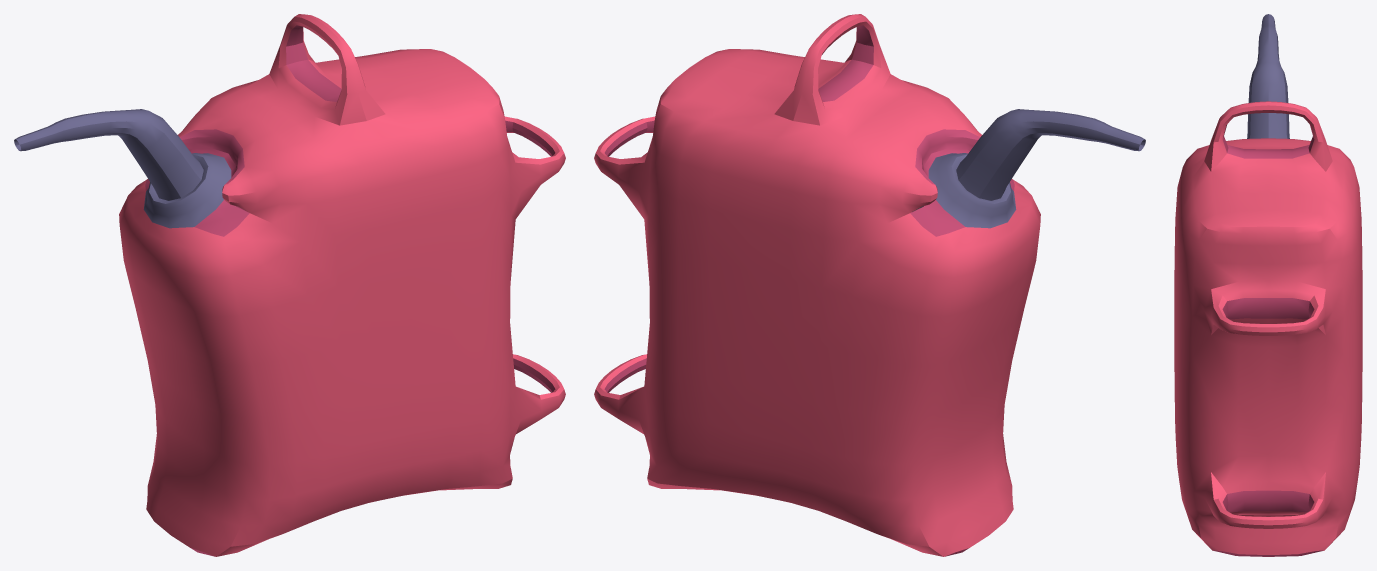
Rendered from gas can.fbx.
The picture shows the model from 3 angles, left to right: view 1: azimuth 30°, elevation 25°; view 2: azimuth 150°, elevation 25°; view 3: azimuth 270°, elevation 25°; orthographic projection. The views are drawn at different scales.
Visible parts, largest first — view 1: Cube; view 2: Cube; view 3: Cube.
Boxes of the visible parts, bbox=[...] form: Cube: bbox=[14, 14, 565, 556]; Cube: bbox=[594, 14, 1145, 556]; Cube: bbox=[1174, 14, 1362, 556].
Size of the model in its own units: 291 by 250 by 109.
